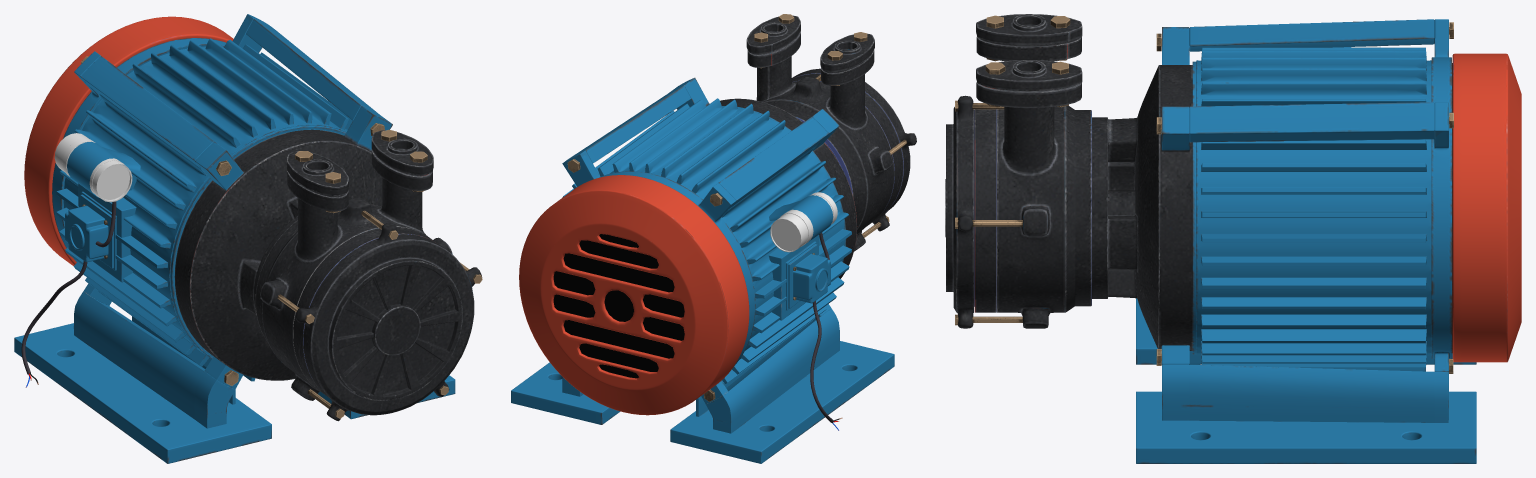
File: water_pump.glb
The picture shows the model from 3 angles, left to right: view 1: azimuth 30°, elevation 25°; view 2: azimuth 150°, elevation 25°; view 3: azimuth 270°, elevation 25°; orthographic projection. The views are drawn at different scales.
Visible parts, largest first — view 1: polySurface107, polySurface106, pCube10, polySurface112, polySurface105, polySurface103, polySurface125, polySurface110, polySurface101, polySurface111; view 2: polySurface107, polySurface112, pCube10, pDisc5, polySurface105, polySurface110, polySurface106, polySurface103, polySurface125, polySurface101, polySurface111; view 3: polySurface107, polySurface112, pCube10, polySurface106, polySurface103, polySurface125, pCylinder19.
Part boxes in pixels (x1,y1,x2,y2): polySurface107: [52, 14, 452, 428]; polySurface106: [295, 223, 482, 421]; pCube10: [14, 323, 455, 463]; polySurface112: [24, 16, 233, 265]; polySurface105: [65, 183, 136, 282]; polySurface103: [293, 227, 436, 393]; polySurface125: [81, 56, 482, 418]; polySurface110: [54, 133, 132, 202]; polySurface101: [67, 141, 140, 197]; polySurface111: [21, 201, 116, 374]; polySurface107: [562, 15, 894, 433]; polySurface112: [519, 175, 749, 415]; pCube10: [511, 341, 894, 463]; pDisc5: [553, 234, 684, 378]; polySurface105: [768, 235, 830, 320]; polySurface110: [770, 192, 837, 252]; polySurface106: [791, 68, 916, 231]; polySurface103: [791, 73, 903, 220]; polySurface125: [567, 14, 907, 401]; polySurface101: [769, 195, 833, 243]; polySurface111: [810, 232, 833, 422]; polySurface107: [976, 14, 1452, 422]; polySurface112: [1452, 53, 1521, 362]; pCube10: [1136, 298, 1476, 463]; polySurface106: [945, 95, 973, 328]; polySurface103: [974, 109, 996, 312]; polySurface125: [955, 15, 1453, 373]; pCylinder19: [1108, 190, 1135, 215].
Size of the model in its own units: 0.3506 by 0.3173 by 0.482.
Materials: 1 (1 with a texture image).
